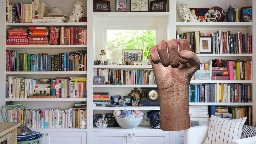Pugno: (147, 37, 202, 87)
